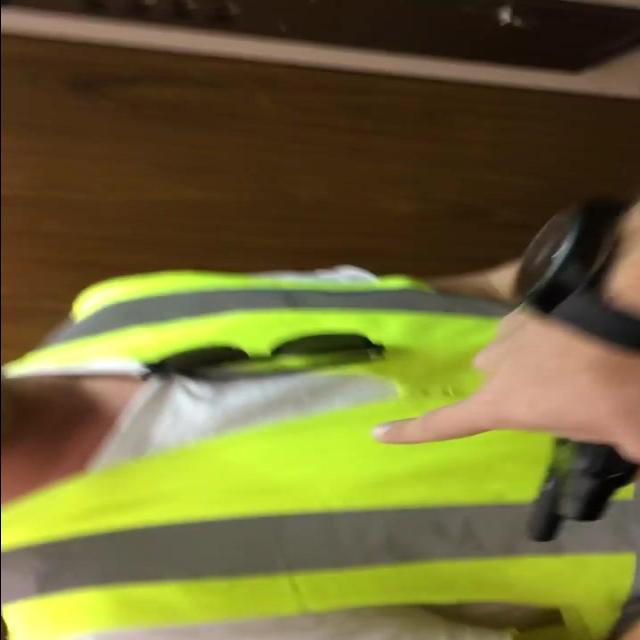jacket: (0, 259, 631, 639)
